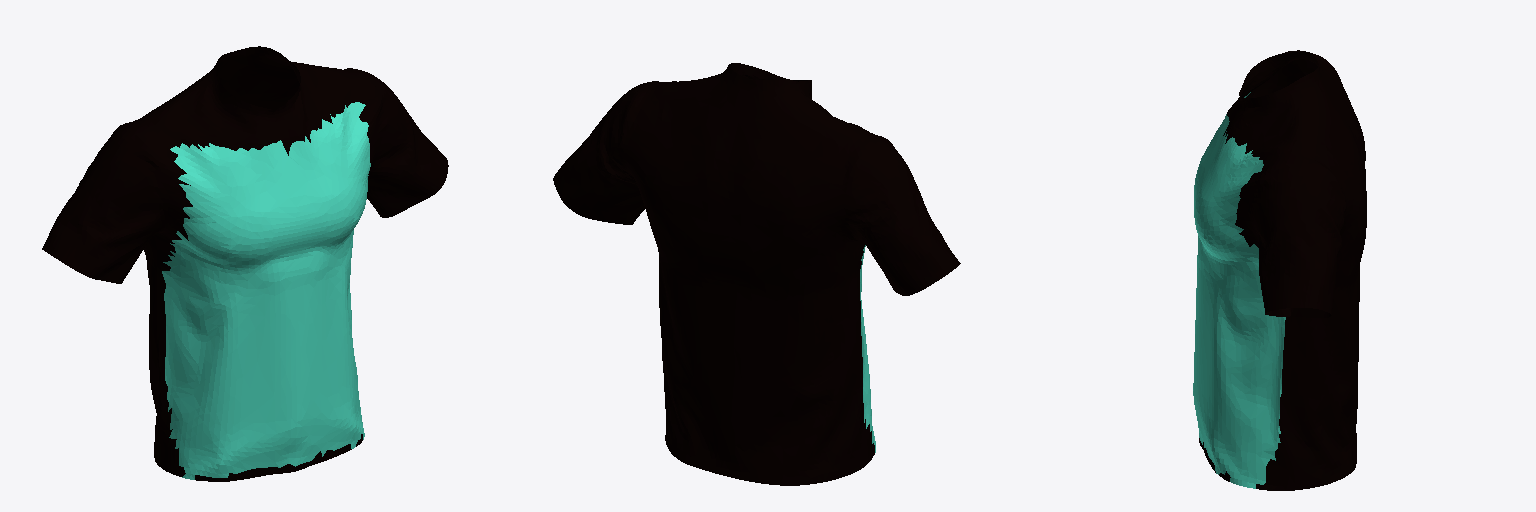
File: TShirt_visu.obj
3 renders of one model, left to right at view 1: azimuth 30°, elevation 25°; view 2: azimuth 150°, elevation 25°; view 3: azimuth 270°, elevation 25°, orthographic.
Visible parts, largest first — view 1: T_Shirt; view 2: T_Shirt; view 3: T_Shirt.
Part boxes in pixels (x1,y1,x2,y2): T_Shirt: (42, 46, 448, 481); T_Shirt: (553, 63, 960, 485); T_Shirt: (1193, 50, 1366, 490).
Size of the model in its own units: 24.87 by 23.16 by 9.43.